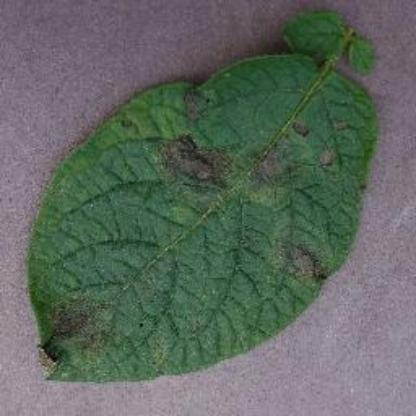Late-Blight: (24, 7, 380, 384)
